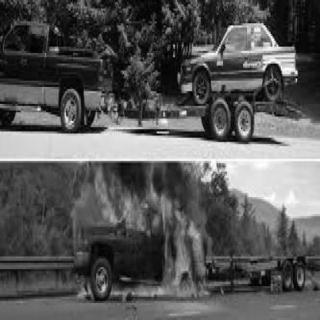Fire: (87, 166, 220, 300)
